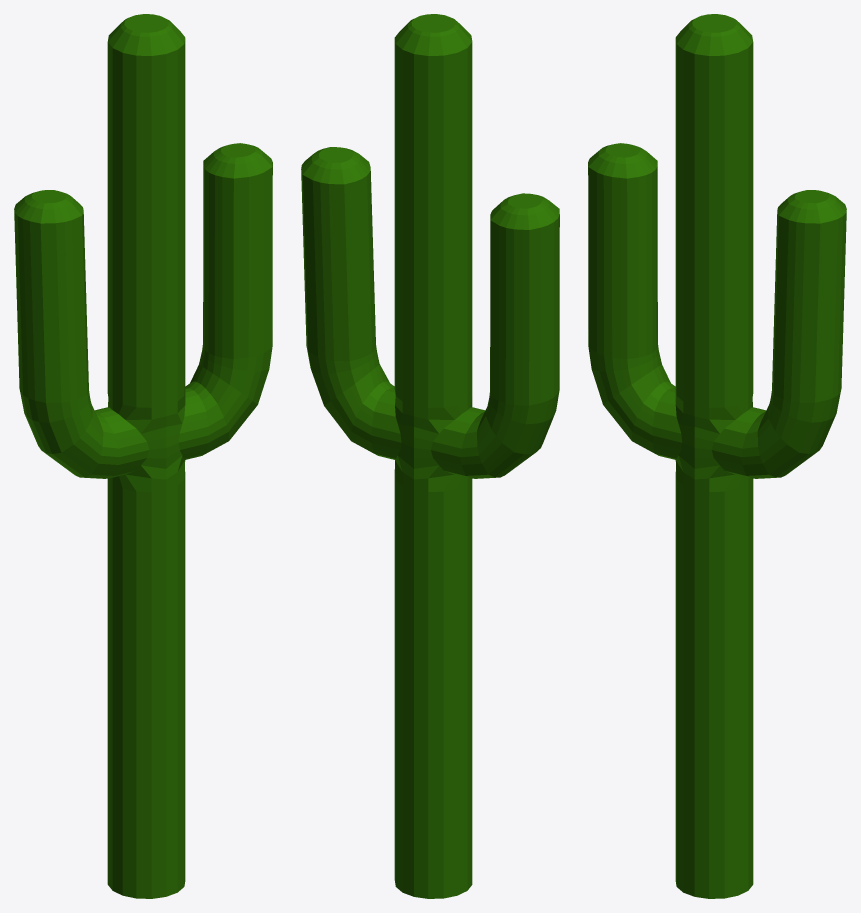
File: Cactus.glb
The picture shows the model from 3 angles, left to right: view 1: azimuth 30°, elevation 25°; view 2: azimuth 150°, elevation 25°; view 3: azimuth 330°, elevation 25°; orthographic projection.
Parts seen in each view (by area): view 1: Cylinder.001; view 2: Cylinder.001; view 3: Cylinder.001.
Boxes of the visible parts, left/top/right/bottom form: Cylinder.001: left=14, top=14, right=272, bottom=898; Cylinder.001: left=301, top=14, right=559, bottom=898; Cylinder.001: left=588, top=14, right=846, bottom=898.
Size of the model in its own units: 0.6526 by 2.15 by 0.1816.
